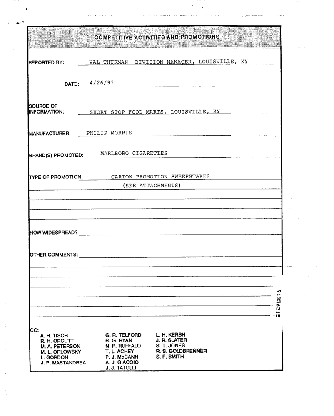textline: (28, 192, 281, 201), (29, 260, 281, 269), (28, 183, 281, 191), (28, 202, 281, 210), (28, 212, 281, 220), (29, 270, 281, 278), (29, 280, 273, 288), (29, 290, 273, 298), (29, 300, 273, 308), (29, 310, 273, 318), (77, 174, 281, 181), (78, 229, 281, 236), (78, 251, 281, 258), (77, 108, 231, 116), (77, 129, 231, 137), (77, 59, 232, 66), (77, 151, 231, 158), (77, 81, 180, 88)
